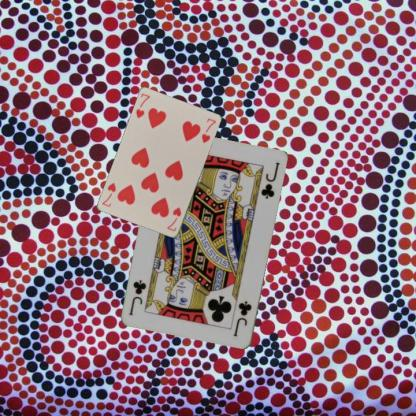7h: (164, 204, 183, 233), (134, 90, 152, 119)
Jc: (230, 299, 253, 339)
